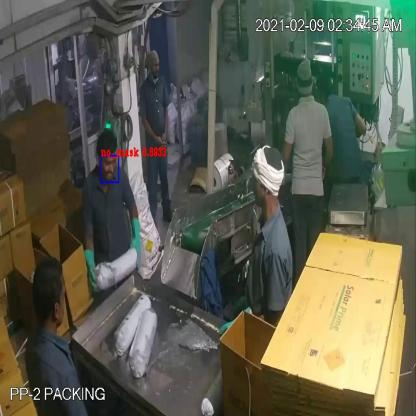glove: (76, 243, 108, 298), (127, 217, 152, 274)
no_glove: (138, 112, 167, 151), (160, 110, 172, 144)
